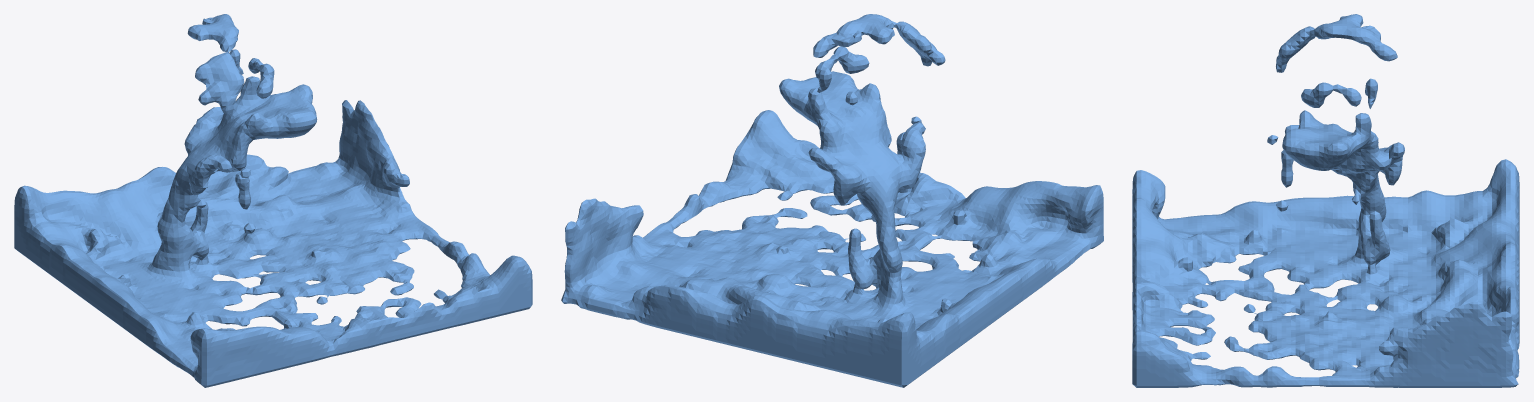
The model's file is water_0081.glb.
The picture shows the model from 3 angles, left to right: view 1: azimuth 30°, elevation 25°; view 2: azimuth 150°, elevation 25°; view 3: azimuth 270°, elevation 25°; orthographic projection. The views are drawn at different scales.
Parts seen in each view (by area): view 1: Water_0081; view 2: Water_0081; view 3: Water_0081.
Part boxes in pixels (left/top/right/bottom): Water_0081: left=14, top=14, right=532, bottom=387; Water_0081: left=561, top=14, right=1103, bottom=387; Water_0081: left=1132, top=14, right=1519, bottom=387.
Bounding box in the file's own units: 4.83 × 3.63 × 4.83.
